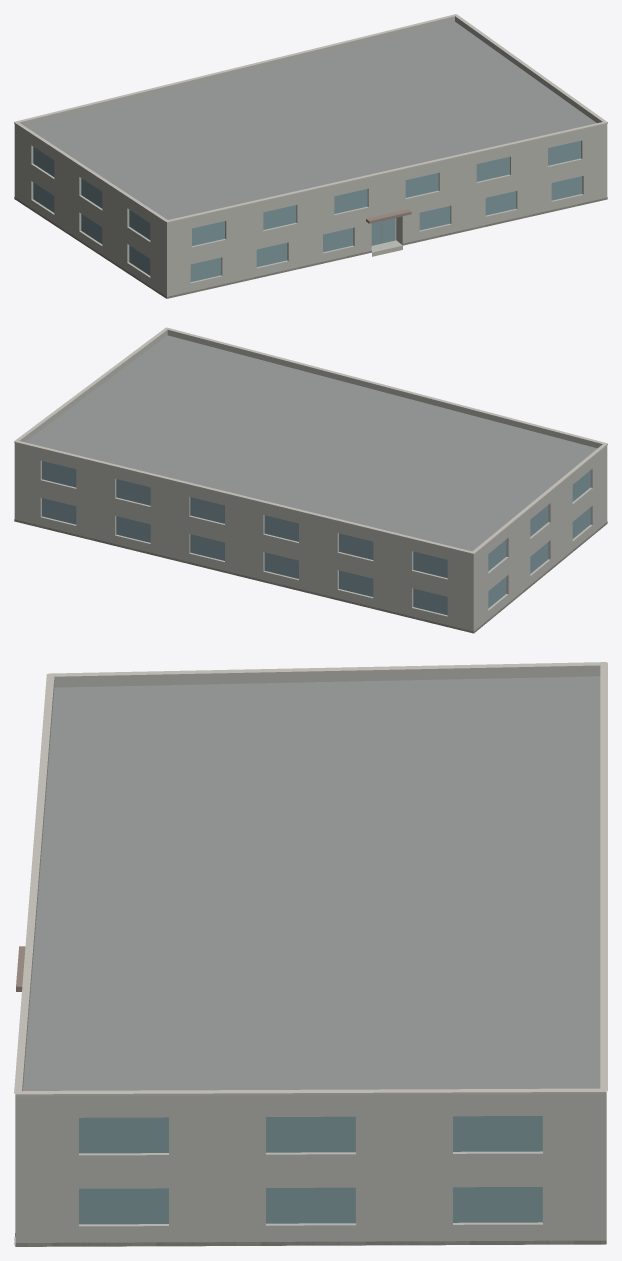
3 views of the same model, one above another, from view 1: azimuth 30°, elevation 25°; view 2: azimuth 150°, elevation 25°; view 3: azimuth 270°, elevation 25° (orthographic). The views are drawn at different scales.
Parts seen in each view (by area): view 1: osm137110181__roof, osm137110181__wall, osm137110181__glass, osm137110181__parapet, osm137110181__trim, osm137110181__base; view 2: osm137110181__roof, osm137110181__wall, osm137110181__glass, osm137110181__parapet, osm137110181__trim, osm137110181__base; view 3: osm137110181__roof, osm137110181__wall, osm137110181__glass, osm137110181__trim, osm137110181__parapet, osm137110181__base.
Boxes of the visible parts, bbox=[...] form: osm137110181__roof: bbox=[25, 21, 596, 219]; osm137110181__wall: bbox=[14, 128, 607, 298]; osm137110181__glass: bbox=[33, 140, 582, 281]; osm137110181__parapet: bbox=[14, 16, 607, 227]; osm137110181__trim: bbox=[14, 14, 607, 222]; osm137110181__base: bbox=[14, 197, 607, 298]; osm137110181__roof: bbox=[25, 335, 597, 551]; osm137110181__wall: bbox=[14, 447, 607, 632]; osm137110181__glass: bbox=[42, 461, 590, 615]; osm137110181__parapet: bbox=[14, 330, 607, 558]; osm137110181__trim: bbox=[14, 327, 607, 554]; osm137110181__base: bbox=[14, 519, 607, 633]; osm137110181__roof: bbox=[23, 676, 605, 1246]; osm137110181__wall: bbox=[15, 1102, 606, 1242]; osm137110181__glass: bbox=[79, 1116, 542, 1224]; osm137110181__trim: bbox=[14, 662, 607, 1096]; osm137110181__parapet: bbox=[15, 665, 606, 1104]; osm137110181__base: bbox=[14, 1233, 606, 1246].
Bounding box in the file's own units: 47.02 × 8.15 × 27.3.
10 materials, 1 textured.
